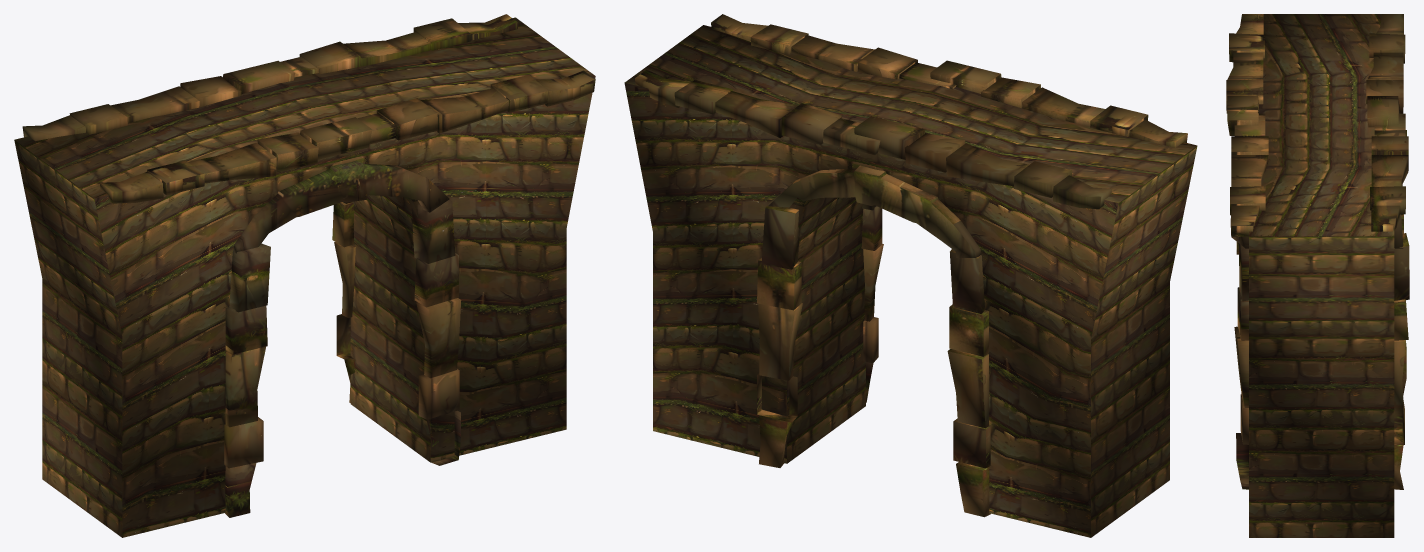
The model's file is Bridge.glb.
3 views of the same model, side by side, from view 1: azimuth 30°, elevation 25°; view 2: azimuth 150°, elevation 25°; view 3: azimuth 270°, elevation 25° (orthographic). The views are drawn at different scales.
Visible parts, largest first — view 1: Export; view 2: Export; view 3: Export.
Part boxes in pixels (<box>): Export: <box>14,14,595,537</box>; Export: <box>624,14,1197,537</box>; Export: <box>1226,14,1409,537</box>.
Bounding box in the file's own units: 7.23 × 4.98 × 2.52.
Materials: 1 (1 with a texture image).
